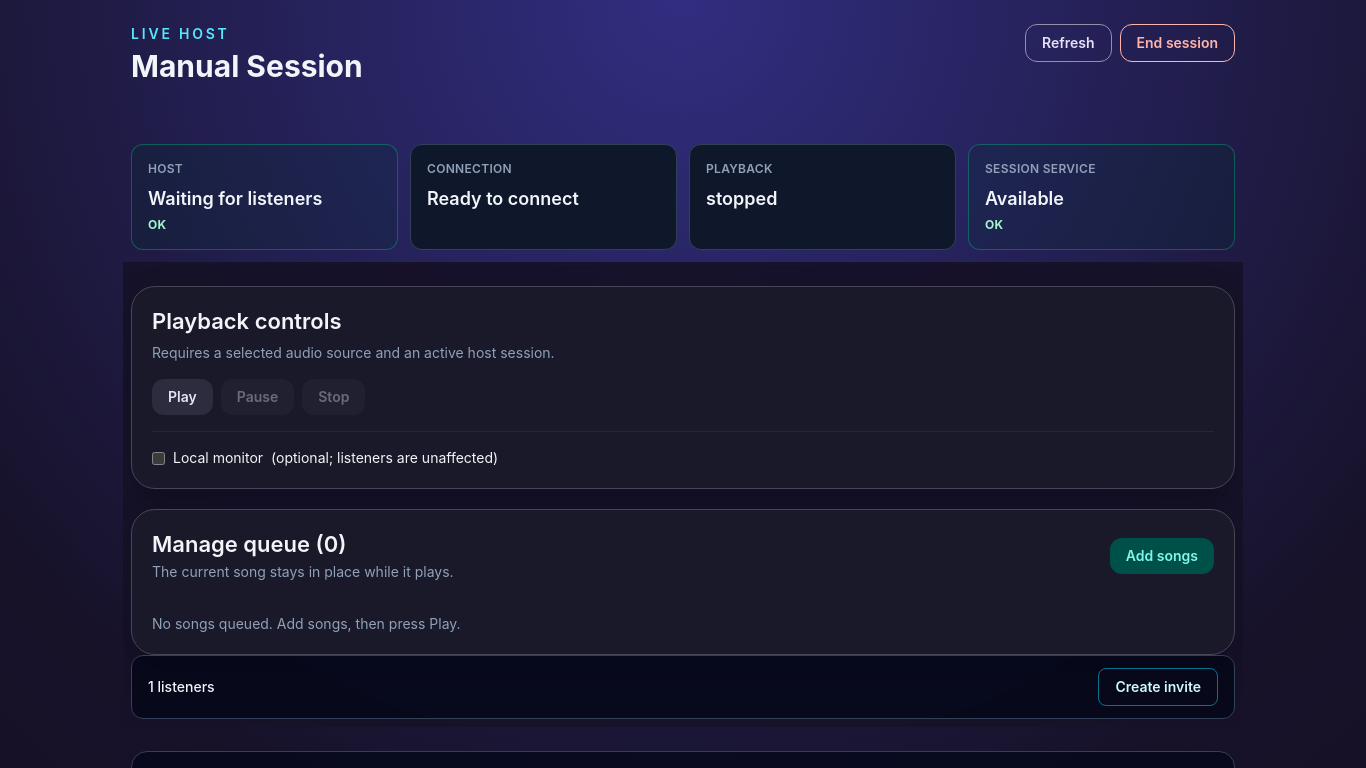
Test: HostSessionScreen playback controls › clears the playback request announcement when Rust reports playback started
Click the button "Play". click: (182,397)
box: [152,379,213,415]
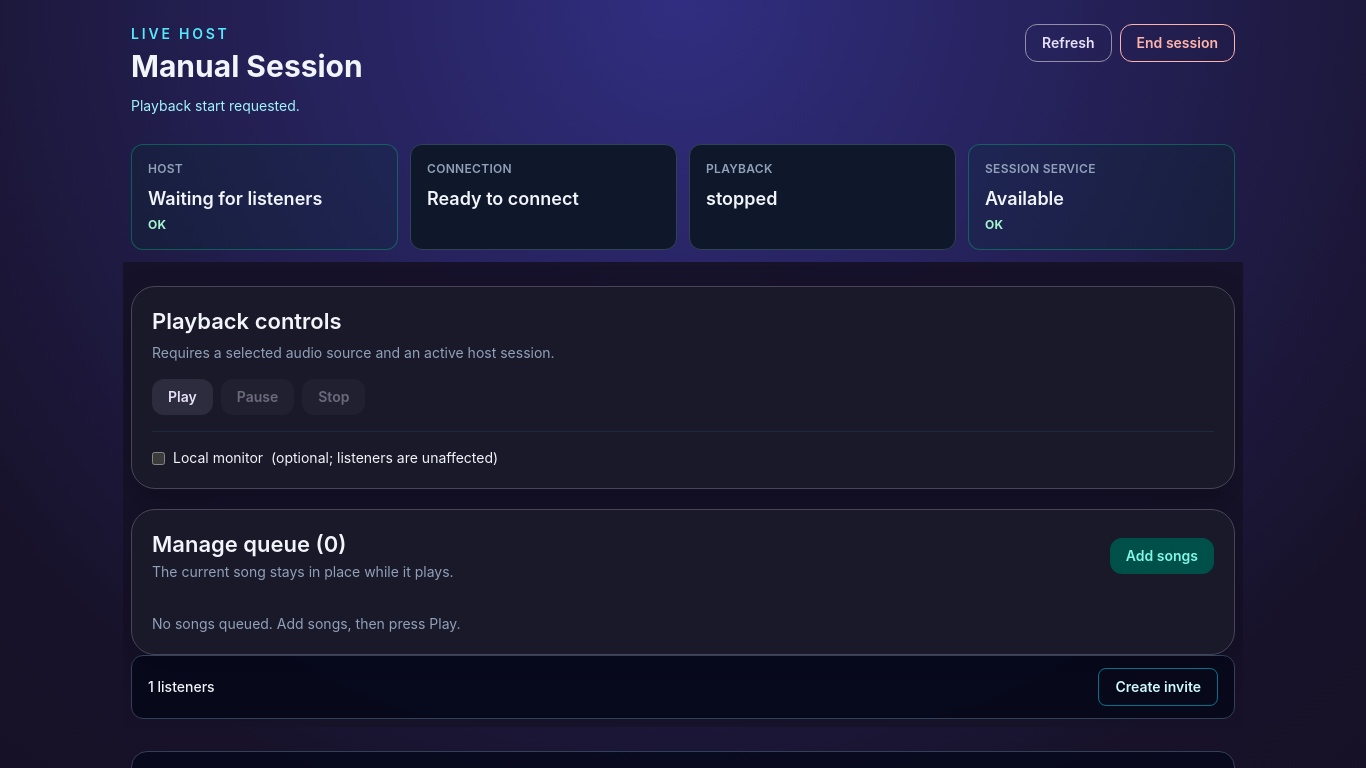
Now the text "Playback start requested." is shown, box [131,97,300,114]
Click the button "Refresh". click: (1068,43)
box: [1025,24,1112,62]
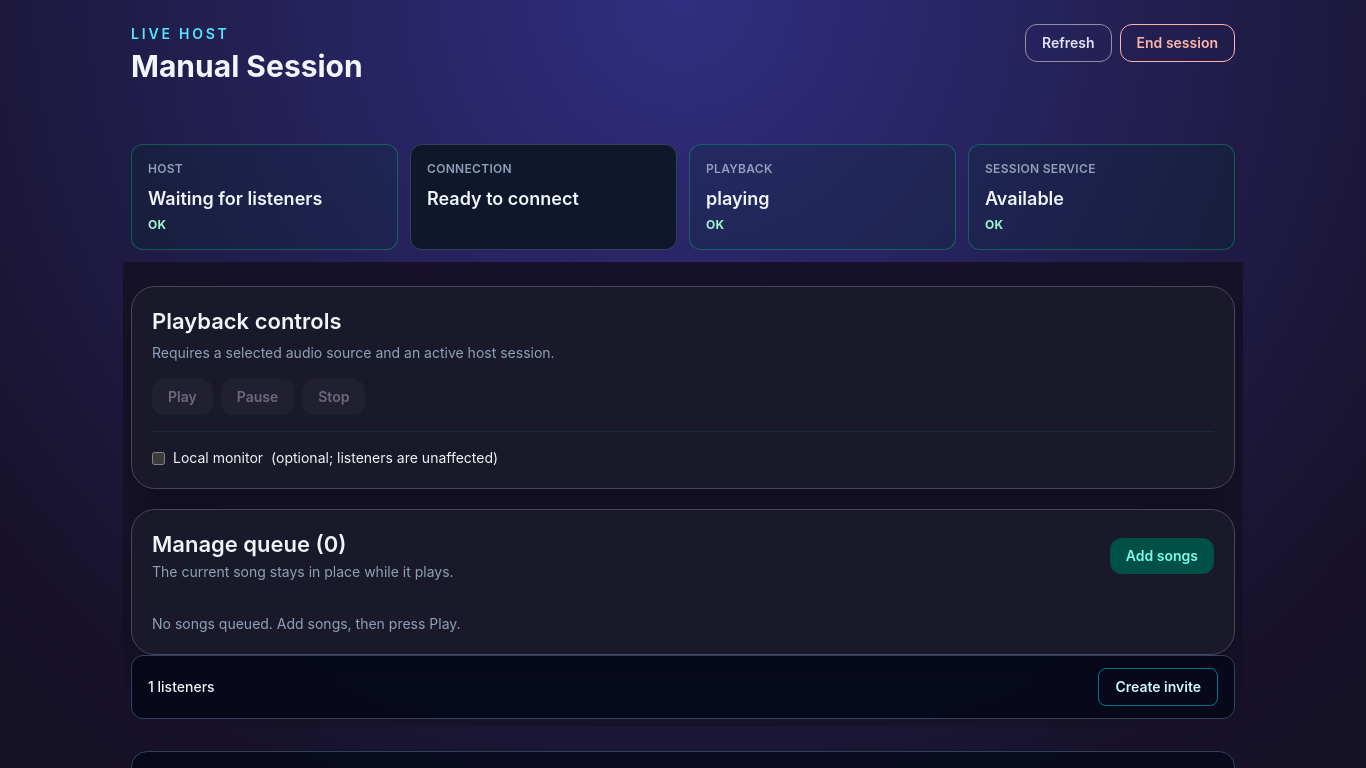
Now the text "Playback start requested." is gone
